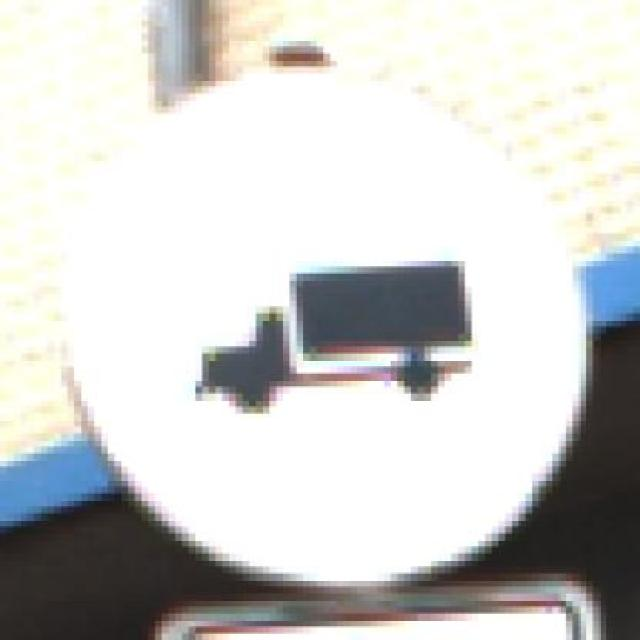Truck traffic is prohibited: (60, 33, 586, 601)
